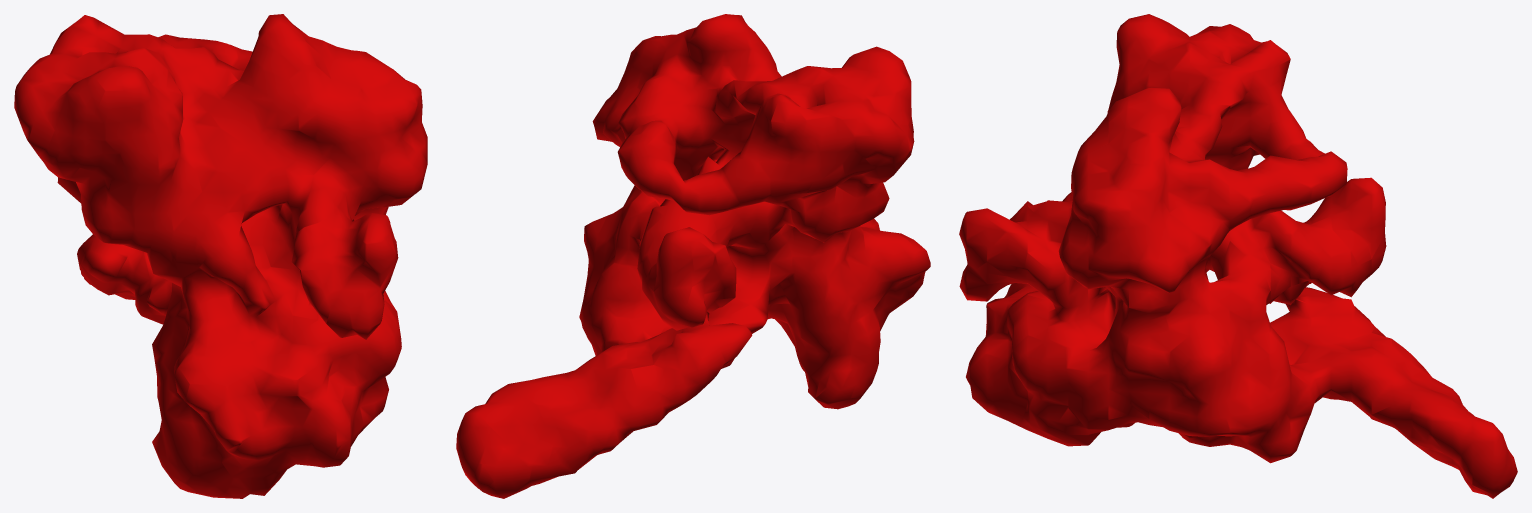
File: CoarseMS_1a36.fbx
3 renders of one model, left to right at view 1: azimuth 30°, elevation 25°; view 2: azimuth 150°, elevation 25°; view 3: azimuth 270°, elevation 25°, orthographic. The views are drawn at different scales.
Parts seen in each view (by area): view 1: CoarseMS_1a36_Mesh; view 2: CoarseMS_1a36_Mesh; view 3: CoarseMS_1a36_Mesh.
Boxes of the visible parts, bbox=[...] form: CoarseMS_1a36_Mesh: bbox=[14, 14, 427, 498]; CoarseMS_1a36_Mesh: bbox=[456, 14, 930, 498]; CoarseMS_1a36_Mesh: bbox=[959, 14, 1517, 498].
Size of the model in its own units: 64.87 by 71.75 by 93.86.
